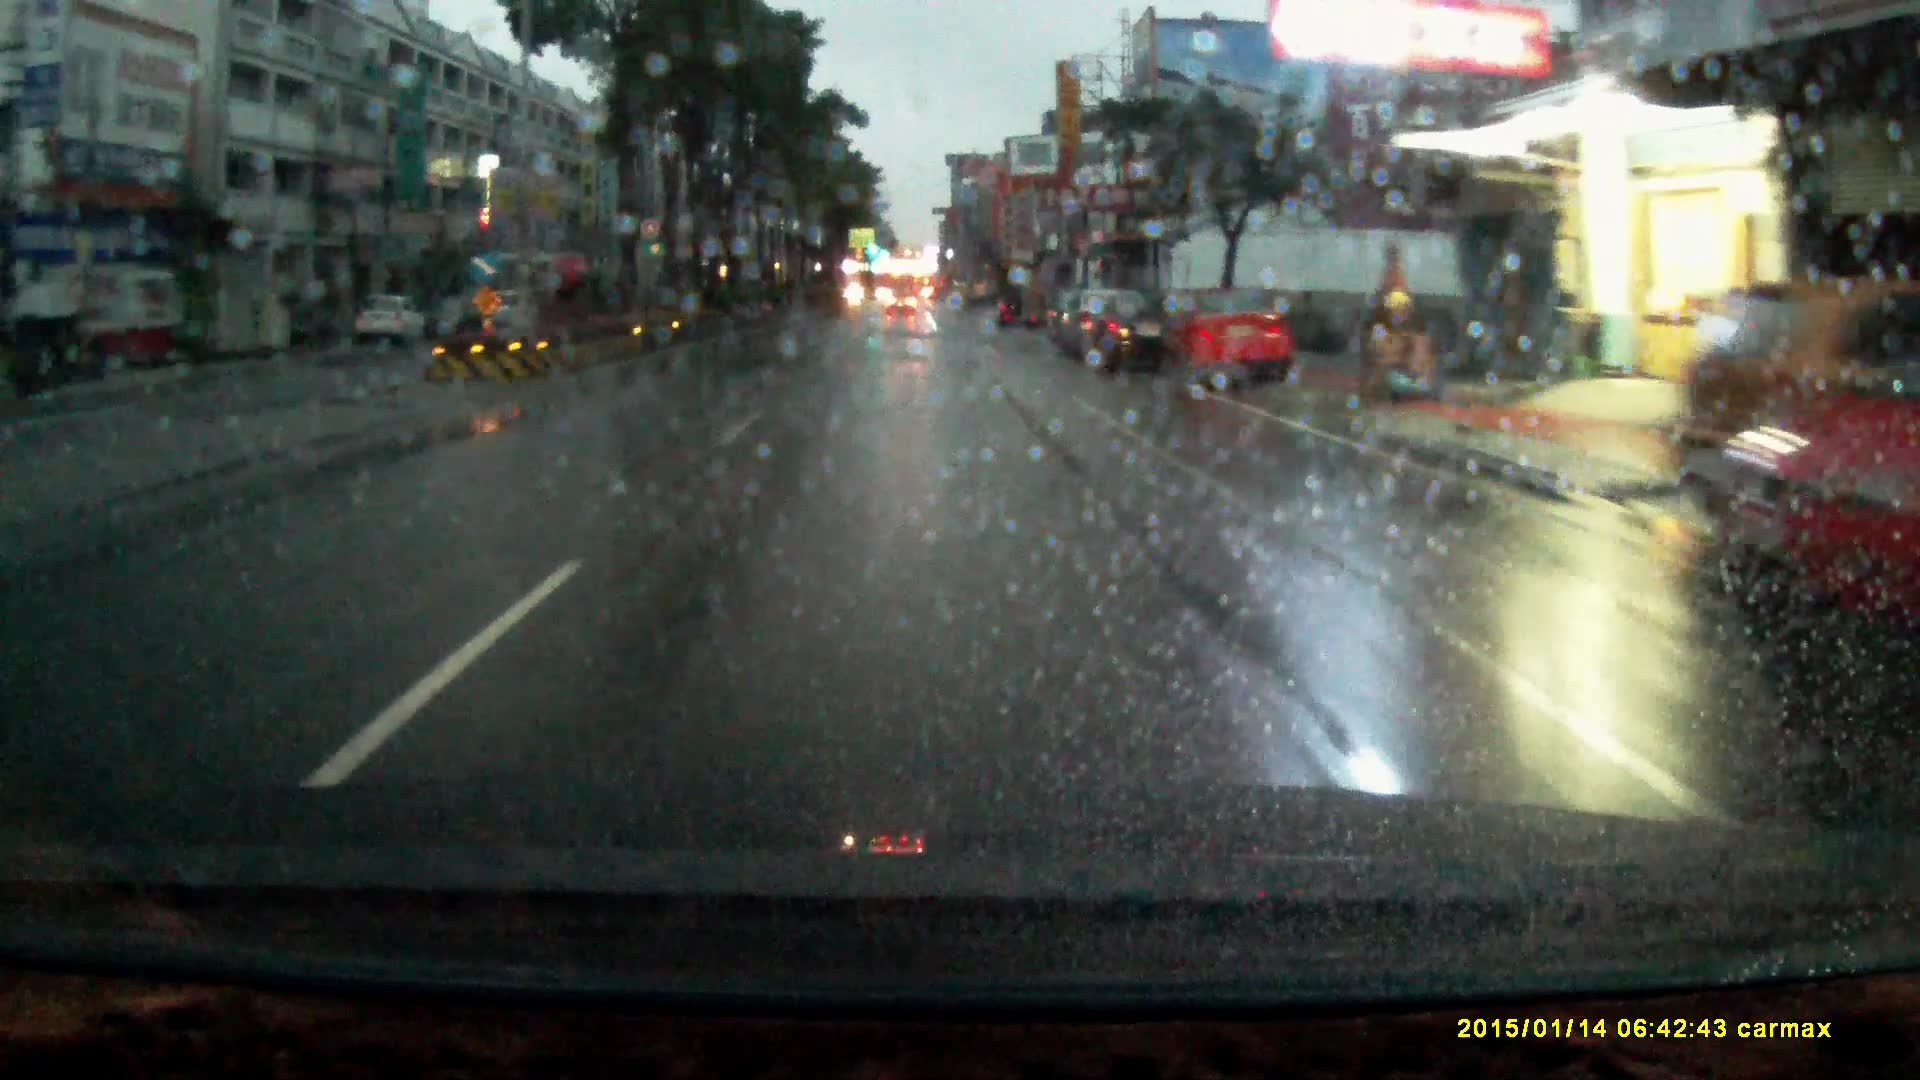vehicle: (1156, 297, 1294, 400), (1073, 299, 1172, 388), (1059, 294, 1135, 367), (351, 291, 429, 348), (462, 289, 549, 335), (1033, 290, 1059, 344), (886, 295, 918, 323)
